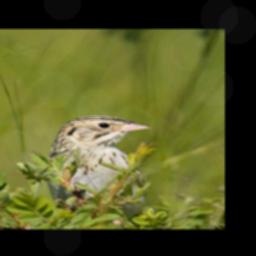Sparrow: (35, 115, 152, 222)
